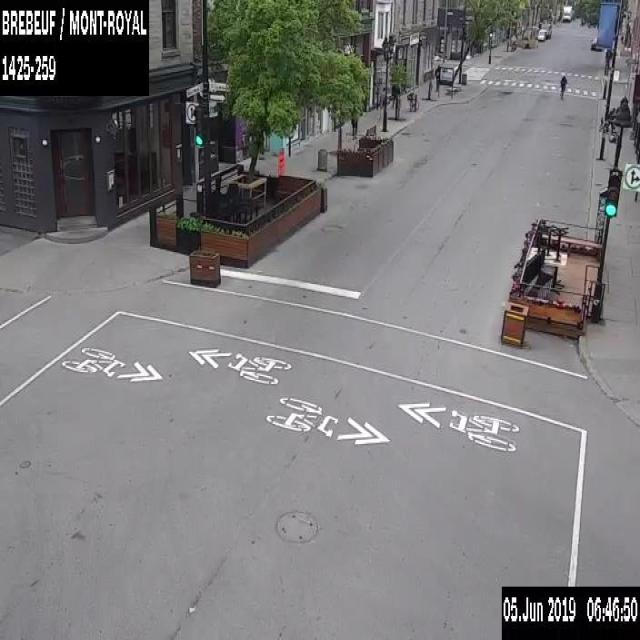construction: (277, 148, 284, 175)
cyclist: (559, 73, 567, 99)
pedestrian: (391, 84, 401, 120), (349, 104, 359, 140)
vehicle: (590, 36, 604, 52), (561, 5, 574, 22), (536, 28, 546, 42)
